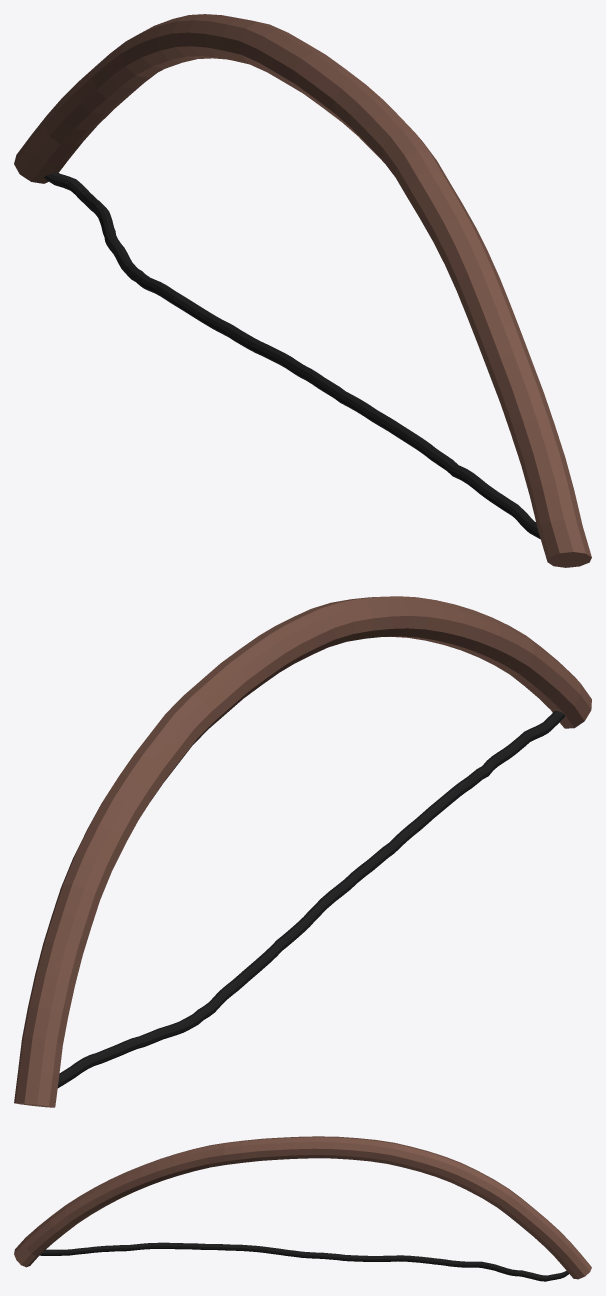
The model's file is Bow.fbx.
The picture shows the model from 3 angles, top to bottom: view 1: azimuth 30°, elevation 25°; view 2: azimuth 150°, elevation 25°; view 3: azimuth 270°, elevation 25°; orthographic projection. The views are drawn at different scales.
Parts seen in each view (by area): view 1: group_1840134201, group_194092437; view 2: group_1840134201, group_194092437; view 3: group_1840134201, group_194092437.
Part boxes in pixels (left/top/right/bottom): group_1840134201: left=14, top=14, right=591, bottom=567; group_194092437: left=44, top=171, right=540, bottom=539; group_1840134201: left=14, top=596, right=591, bottom=1107; group_194092437: left=57, top=711, right=565, bottom=1087; group_1840134201: left=14, top=1136, right=591, bottom=1279; group_194092437: left=39, top=1242, right=568, bottom=1281.
Bounding box in the file's own units: 17.53 × 50.81 × 178.
